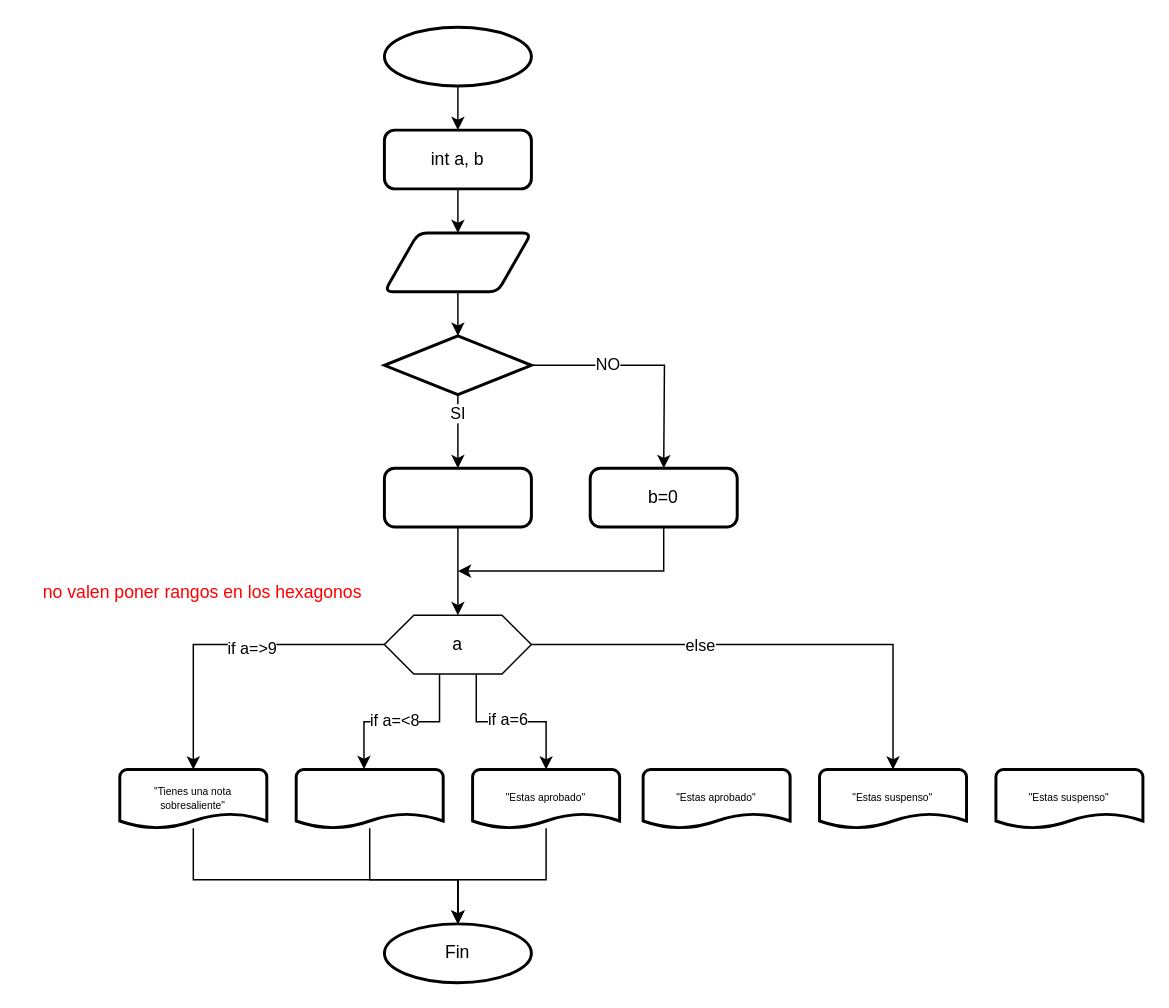
The diagram is 1169 pixels wide and 1008 high, and some of its shapes have lost their labels. The shapes that lost their labels are listed below. From the top down, each one's centre as x and y in pixels, then its label:
[457,56]: Inicio
[457,262]: a,b
[457,364]: if b=>5
[457,497]: a=a+1
[369,798]: "Tienes una nota notable"
